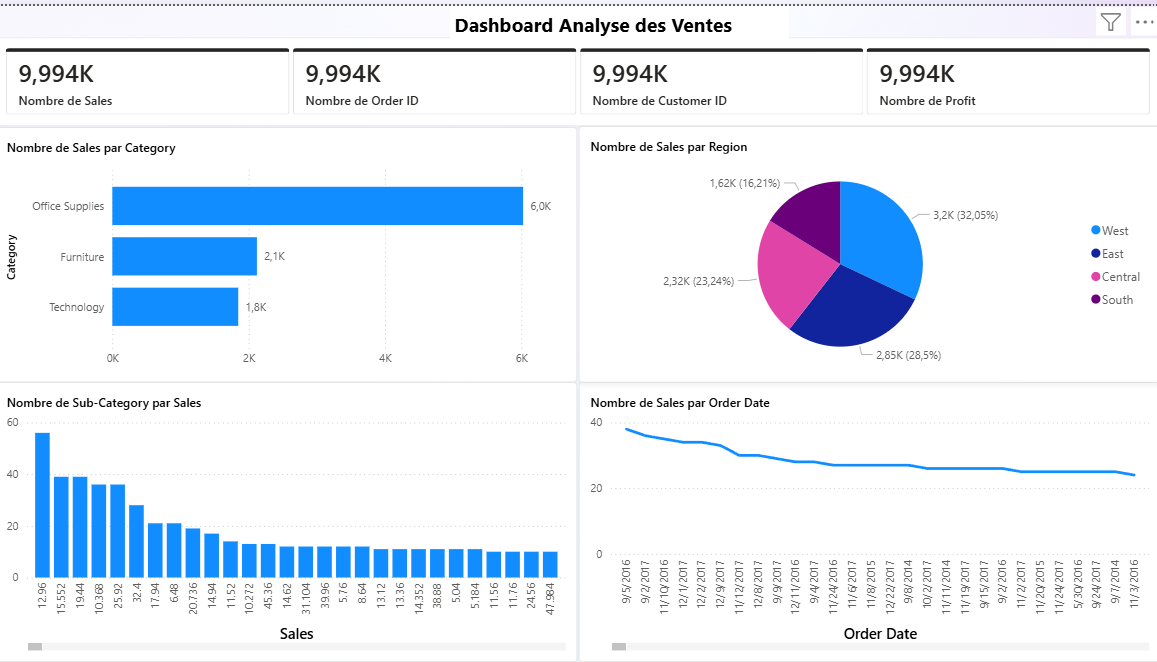

This screenshot's page, from the dashboard's own definition file:
{"tool":"powerbi","page":{"name":"Page 1","canvas":[1280,720],"ordinal":0},"visuals":[{"type":"cardVisual","fields":{"Data":["CountNonNull(Sample - Superstore.Sales)","CountNonNull(Sample - Superstore.Order ID)","CountNonNull(Sample - Superstore.Customer ID)","CountNonNull(Sample - Superstore.Profit)"]},"box":[0,34.3,1280.3,97.4],"z":0},{"type":"barChart","fields":{"Category":["Sample - Superstore.Category"],"Y":["CountNonNull(Sample - Superstore.Sales)"]},"box":[0,133.1,639.5,279.9],"z":1000},{"type":"lineChart","fields":{"Y":["CountNonNull(Sample - Superstore.Sales)"],"Category":["Sample - Superstore.Order Date"]},"box":[640.8,413,639.5,307.4],"z":2000},{"type":"pieChart","fields":{"Category":["Sample - Superstore.Region"],"Y":["CountNonNull(Sample - Superstore.Sales)"]},"box":[640.8,131.7,639.5,281.3],"z":3000},{"type":"clusteredColumnChart","fields":{"Y":["CountNonNull(Sample - Superstore.Sub-Category)"],"Category":["Sample - Superstore.Sales"]},"box":[0,413,639.5,307.4],"z":4000},{"type":"textbox","box":[499.5,0,371.9,43.9],"z":5000}]}

Visuals, with their boxes in screenshot pixels (x1, y1, x2, y2), scaled from the page's 1280x720 canvas onto the 1157x662 screenshot:
cardVisual - CountNonNull(Sample - Superstore.Sales) x CountNonNull(Sample - Superstore.Order ID): 0 32 1156 121
barChart - Sample - Superstore.Category x CountNonNull(Sample - Superstore.Sales): 0 122 578 380
lineChart - CountNonNull(Sample - Superstore.Sales) x Sample - Superstore.Order Date: 579 380 1156 661
pieChart - Sample - Superstore.Region x CountNonNull(Sample - Superstore.Sales): 579 121 1156 380
clusteredColumnChart - CountNonNull(Sample - Superstore.Sub-Category) x Sample - Superstore.Sales: 0 380 578 661
textbox: 452 0 788 40
